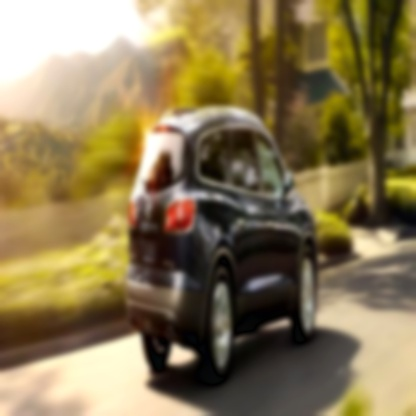Vehicle: (124, 82, 322, 386)
